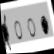correct: (39, 13, 50, 37)
not correct: (1, 13, 13, 52)
